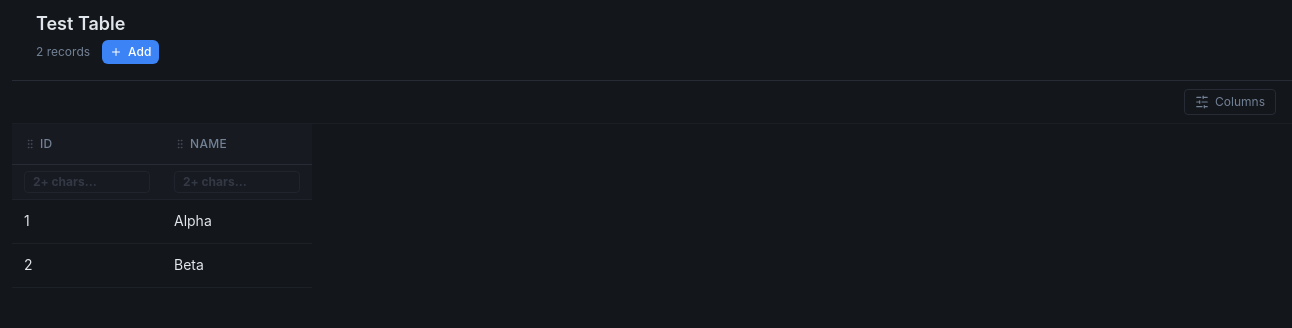
TablePage › opens create modal when Add is clicked
Expected: the text "2 records" is shown, [36,44,90,60]
Click the button "Add" at (131, 52), box [102,40,159,64]
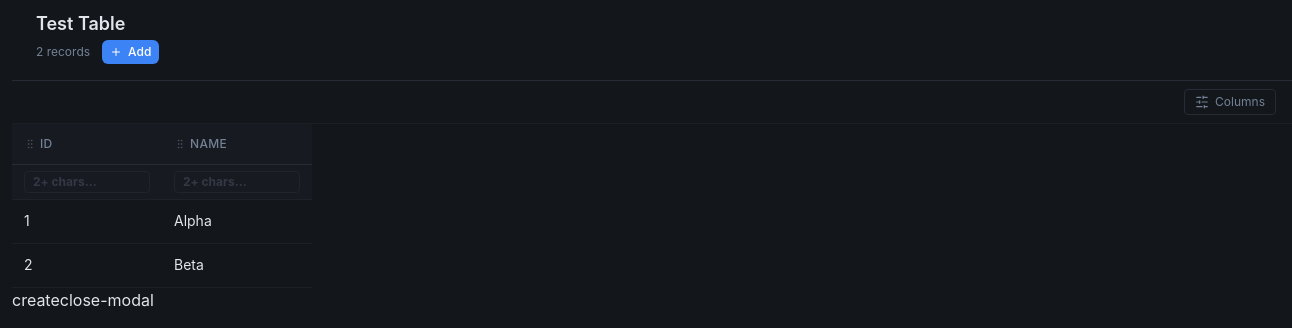
Expected: the element with test id "modal" is shown, [12,288,154,312]
Expected: the text "create" is shown, [12,290,60,310]
